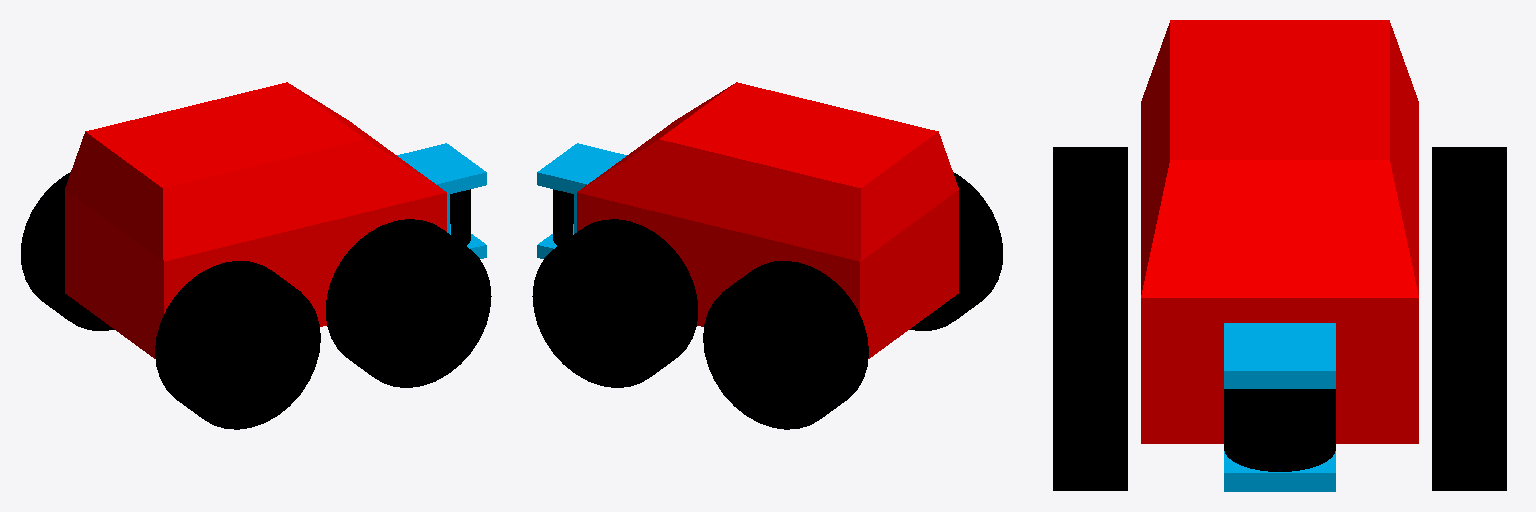
URDF robot description (Junior):
<?xml version="1.0"?>
<!-- Chassis Width: 0.387m -->
<!-- Chassis Length: 0.642m -->
<!-- Chassis Height: 0.224m -->
<!-- Wheel Diameter: 0.315m -->
<!-- Wheel Width: 0.105m -->
<!-- Wheel to Body: 0.125m -->
<!-- Axle Distance: 0.386m -->
<!-- Calculation 1: 0.1185m (0.237 / 2) -->
<!-- Calculation 2: 0.193m (0.386 / 2) -->
<!-- Calculation 3: 0.2635m (0.387 / 2 + 0.07) -->

<!-- Front Lidar Width: 0.155m -->
<!-- Front Lidar Length: 0.155m -->
<!-- Front Lidar Height: 0.185m -->
<robot name="Junior">
    <material name="black">
        <color rgba="0 0 0 1"/>
    </material>
    
    <material name="red">
        <color rgba="1 0 0 1"/>
    </material>

    <material name="skyblue">
        <color rgba="0.0 0.75 1.0 1.0"/>
    </material>

    <!-- Base Link -->
    <link name="base_link">
        
    </link>

    <!-- Chassis Link -->
    <link name="Chassis">
        <visual>
            <geometry>
                <mesh filename="package://junior_description/meshes/robitChassis.stl"/>
            </geometry>
            <material name="red"/>
        </visual>
    </link>

    <!-- Front Lidar Link -->
    <link name="FrontLidar">
        <visual>
            <geometry>
                <mesh filename="package://junior_description/meshes/robitFrontLidarCase.stl"/>
            </geometry>
            <material name="skyblue"/>
        </visual>
    </link>

    <!-- Front Lidar Glass Link -->
    <link name="FrontLidarGlass">
        <visual>
            <geometry>
                <mesh filename="package://junior_description/meshes/robitFrontLidarGlass.stl"/>
            </geometry>
            <material name="black"/>
        </visual>
    </link>

    <!-- Left Front Link -->
    <link name="WheelLeftFront">
        <visual>
            <geometry>
                <mesh filename="package://junior_description/meshes/robitWheel.stl"/>
            </geometry>
            <material name="black"/>
        </visual>
    </link>

    <!-- Right Front Link -->
    <link name="WheelRightFront">
        <visual>
            <geometry>
                <mesh filename="package://junior_description/meshes/robitWheel.stl"/>
            </geometry>
            <material name="black"/>
        </visual>
    </link>

    <!-- Left Back Link -->
    <link name="WheelLeftBack">
        <visual>
            <geometry>
                <mesh filename="package://junior_description/meshes/robitWheel.stl"/>
            </geometry>
            <material name="black"/>
        </visual>
    </link>

    <!-- Right Back Link -->
    <link name="WheelRightBack">
        <visual>
            <geometry>
                <mesh filename="package://junior_description/meshes/robitWheel.stl"/>
            </geometry>
            <material name="black"/>
        </visual>
    </link>

    <!-- Current Thinking -> Chassis Z = Height / 2 so 0.112, will probably need to be raised additionally to prevent scraping-->
    <joint name="ChassisJoint" type="fixed">
        <parent link="base_link"/>
        <child link="Chassis"/>
        <origin xyz="1 0 0.23"/>
    </joint>

    <joint name="FrontLidarHolster" type="fixed">
        <parent link="Chassis"/>
        <child link="FrontLidar"/>
        <origin xyz="0.321 0 -0.0197"/> 
    </joint>

    <joint name="FrontLidarVision" type="fixed">
        <parent link="FrontLidar"/>
        <child link="FrontLidarGlass"/>
        <origin xyz="0.075 0 0"/> 
    </joint>

    <joint name="AxleLeftFront" type="continuous">
        <parent link="Chassis"/>
        <child link="WheelLeftFront"/>
        <origin xyz="0.193 0.2635 -0.07" rpy="0 0 0"/>
        <axis xyz="0 1 0"/>
    </joint>
    
    <joint name="AxleRightFront" type="continuous">
        <parent link="Chassis"/>
        <child link="WheelRightFront"/>
        <origin xyz="0.193 -0.2635 -0.07" rpy="0 0 0"/>
        <axis xyz="0 1 0"/>
    </joint>

    <joint name="AxleLeftBack" type="continuous">
        <parent link="Chassis"/>
        <child link="WheelLeftBack"/>
        <origin xyz="-0.193 0.2635 -0.07" rpy="0 0 0"/>
        <axis xyz="0 1 0"/>
    </joint>

    <joint name="AxleRightBack" type="continuous">
        <parent link="Chassis"/>
        <child link="WheelRightBack"/>
        <origin xyz="-0.193 -0.2635 -0.07" rpy="0 0 0"/>
        <axis xyz="0 1 0"/>
    </joint>
</robot>

--- What the picture shows (computed from the rendered views, not written in the file) ---
3 views of the same robot in one strip: view 1: azimuth 30°, elevation 25°; view 2: azimuth 150°, elevation 25°; view 3: azimuth 270°, elevation 25° (orthographic).
Model Junior with 8 links and 7 joints (4 continuous, 3 fixed), rooted at base_link, posed every joint at zero.
Links seen in each view (by area): view 1: Chassis, WheelRightFront, WheelRightBack, WheelLeftBack, FrontLidar, FrontLidarGlass; view 2: Chassis, WheelLeftFront, WheelLeftBack, WheelRightBack, FrontLidar, FrontLidarGlass; view 3: Chassis, WheelLeftFront, WheelRightFront, FrontLidar, WheelLeftBack, WheelRightBack, FrontLidarGlass.
Link boxes in pixels (left/top/right/bottom): Chassis: left=65, top=82, right=446, bottom=358; WheelRightFront: left=326, top=219, right=491, bottom=387; WheelRightBack: left=155, top=261, right=320, bottom=429; WheelLeftBack: left=21, top=172, right=114, bottom=330; FrontLidar: left=397, top=143, right=486, bottom=258; FrontLidarGlass: left=450, top=189, right=470, bottom=245; Chassis: left=577, top=82, right=958, bottom=358; WheelLeftFront: left=532, top=219, right=697, bottom=387; WheelLeftBack: left=703, top=261, right=868, bottom=429; WheelRightBack: left=909, top=172, right=1002, bottom=330; FrontLidar: left=537, top=143, right=626, bottom=258; FrontLidarGlass: left=553, top=189, right=573, bottom=245; Chassis: left=1141, top=20, right=1418, bottom=443; WheelLeftFront: left=1432, top=264, right=1506, bottom=490; WheelRightFront: left=1053, top=264, right=1127, bottom=490; FrontLidar: left=1224, top=323, right=1335, bottom=491; WheelLeftBack: left=1432, top=147, right=1506, bottom=263; WheelRightBack: left=1053, top=147, right=1127, bottom=263; FrontLidarGlass: left=1224, top=389, right=1335, bottom=471.
Bounding box of the posed robot: 0.8276 × 0.632 × 0.4761 m (x, y, z).
Meshes: 4 distinct files referenced, 7 mesh visuals loaded (4 binary STL).
